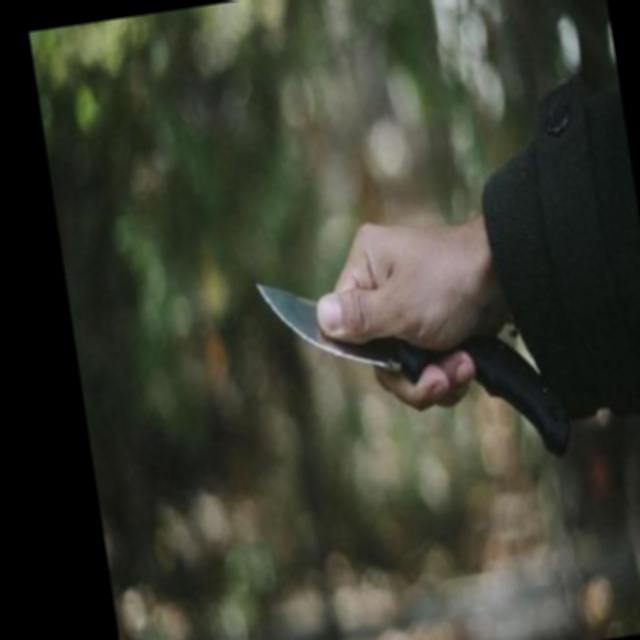Sharp-Object: (259, 245, 577, 497)
